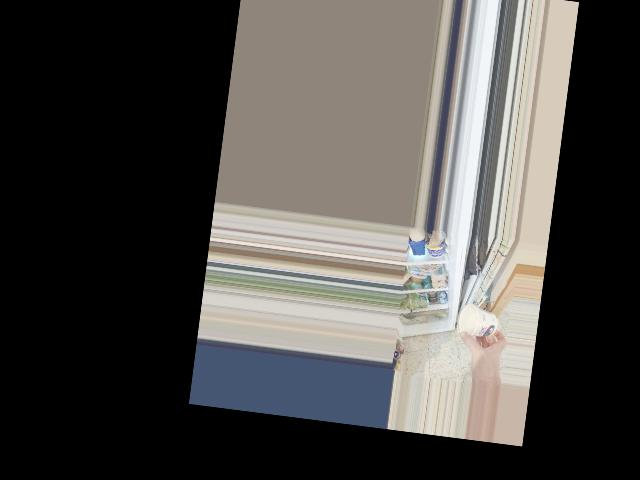cotage: (456, 304, 502, 342)
